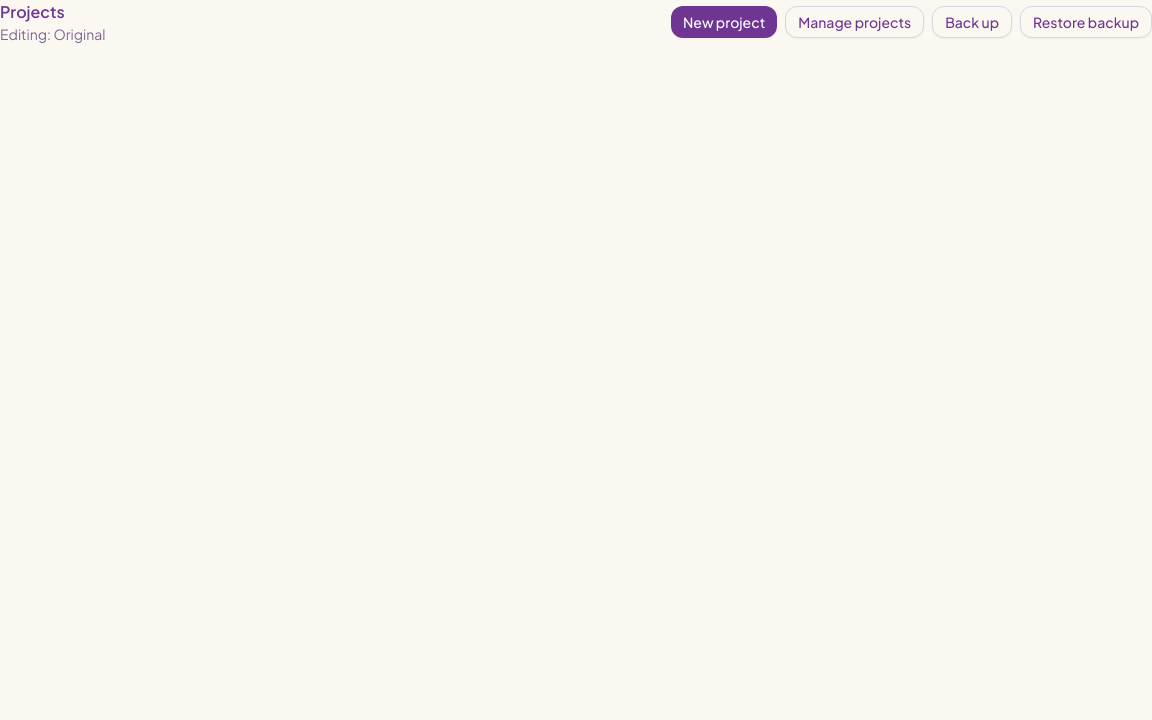
Test: ProjectLibrary › has no accessibility violations in the library and naming form
Step 1. Click the button "Manage projects" → (855, 22), box [785,6,924,38]
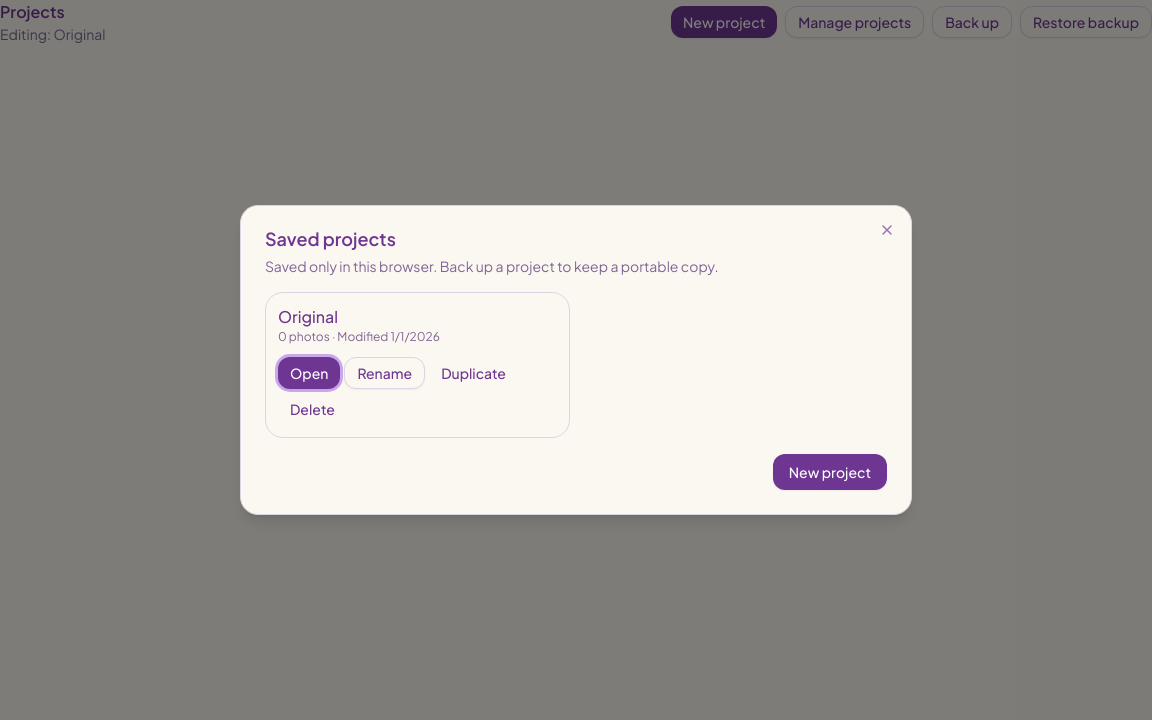
Now the dialog is shown, box [240,205,912,515]
Step 2. Click the button "New project" → (830, 472), box [773,454,887,490]
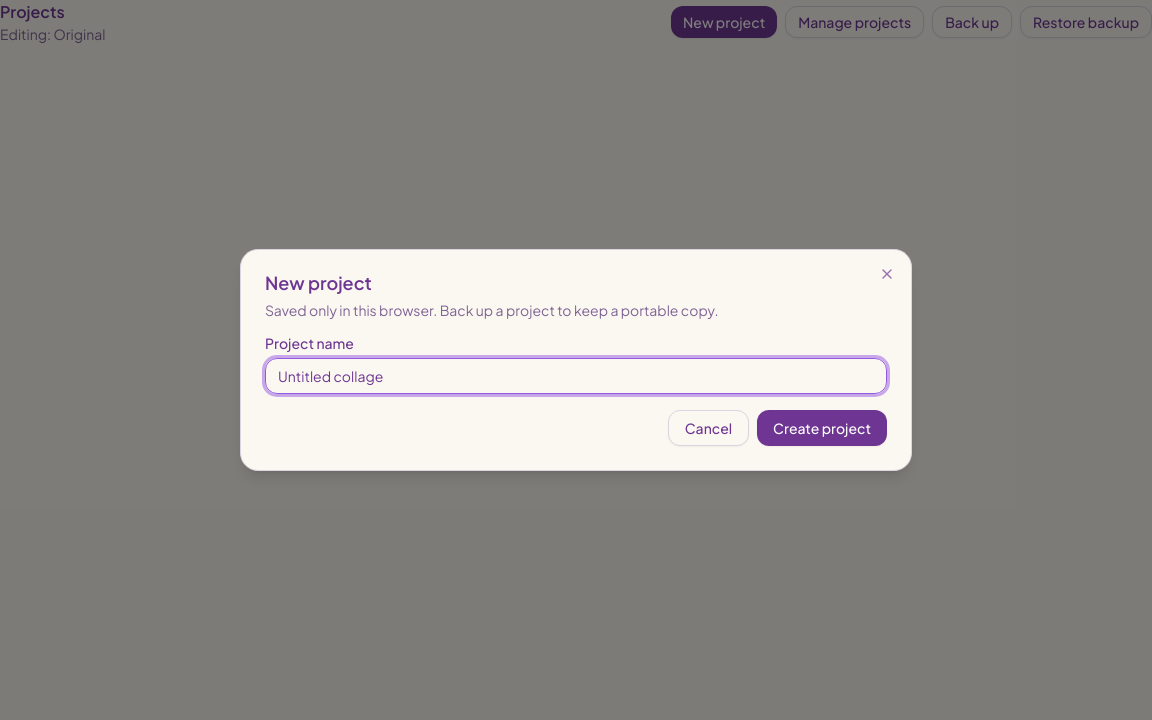
Now the field labelled "Project name" is shown, box [265,358,887,394]
